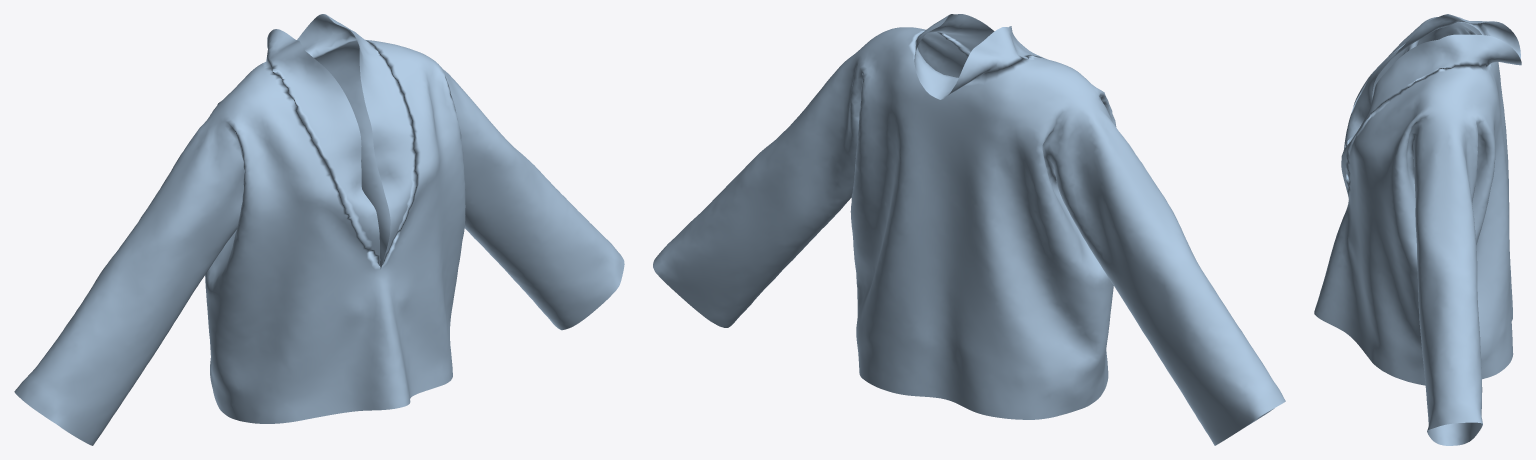
The model's file is jacket_XXL.glb.
3 renders of one model, left to right at view 1: azimuth 30°, elevation 25°; view 2: azimuth 150°, elevation 25°; view 3: azimuth 270°, elevation 25°, orthographic. The views are drawn at different scales.
Visible parts, largest first — view 1: geometry_0; view 2: geometry_0; view 3: geometry_0.
Boxes of the visible parts, x1,y1,x2,y2 form: geometry_0: (14,14,624,445); geometry_0: (653,14,1285,445); geometry_0: (1314,14,1521,445).
Size of the model in its own units: 1.24 by 0.6974 by 0.4127.
